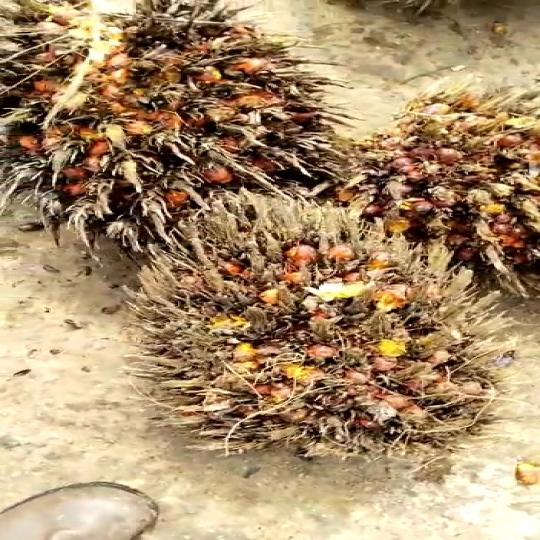terlalu masak: (144, 200, 468, 457), (0, 0, 342, 224), (355, 90, 540, 274)
